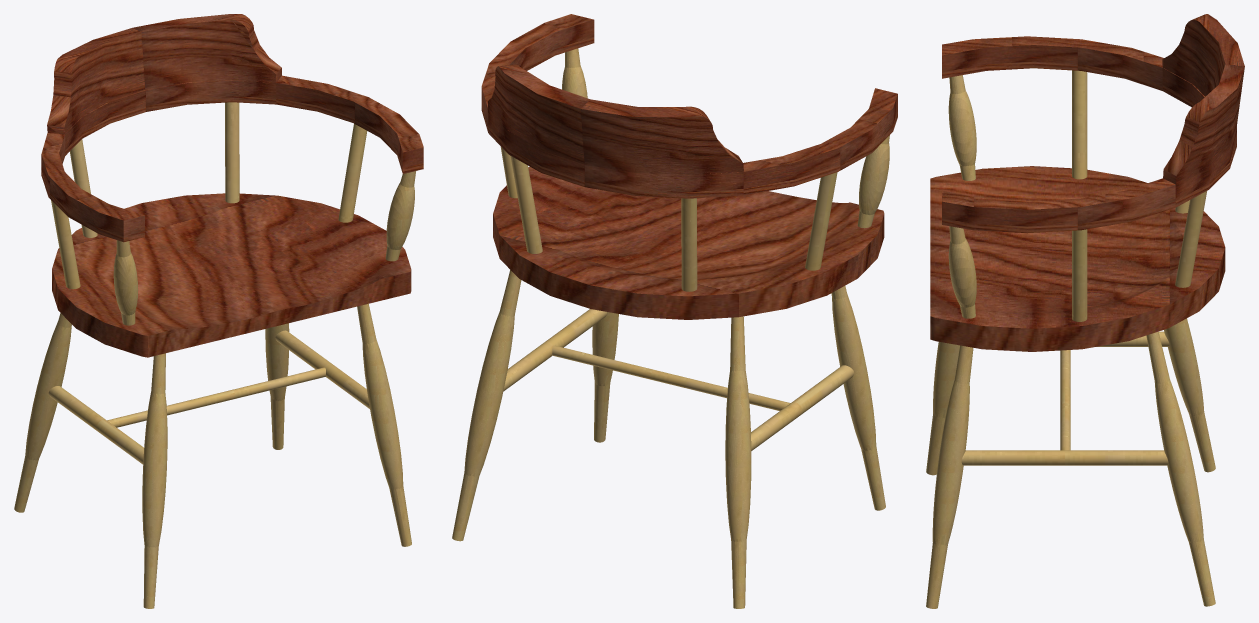
Rendered from RoundBackedChairWooden.fbx.
The picture shows the model from 3 angles, left to right: view 1: azimuth 30°, elevation 25°; view 2: azimuth 150°, elevation 25°; view 3: azimuth 270°, elevation 25°; orthographic projection. The views are drawn at different scales.
Parts seen in each view (by area): view 1: default; view 2: default; view 3: default.
Part boxes in pixels (x1,y1,x2,y2): default: (14, 14, 423, 608); default: (452, 14, 897, 608); default: (926, 14, 1244, 608).
Size of the model in its own units: 1.63 by 2.1 by 1.27.
